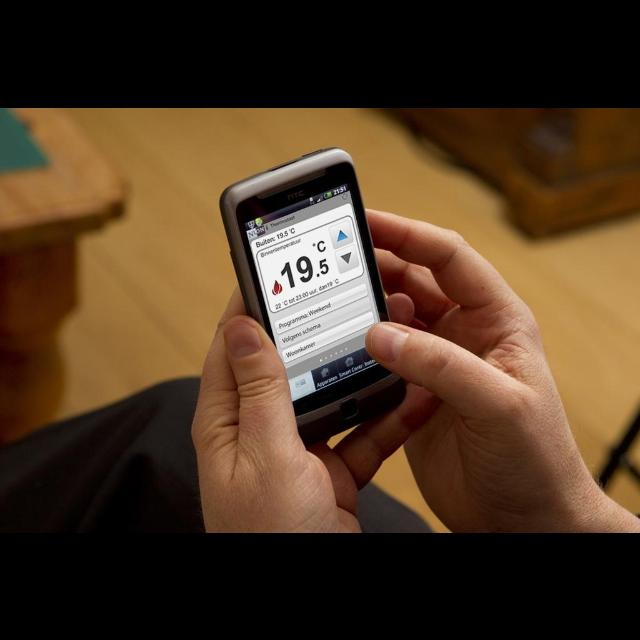Smartphone: (216, 147, 410, 429)
